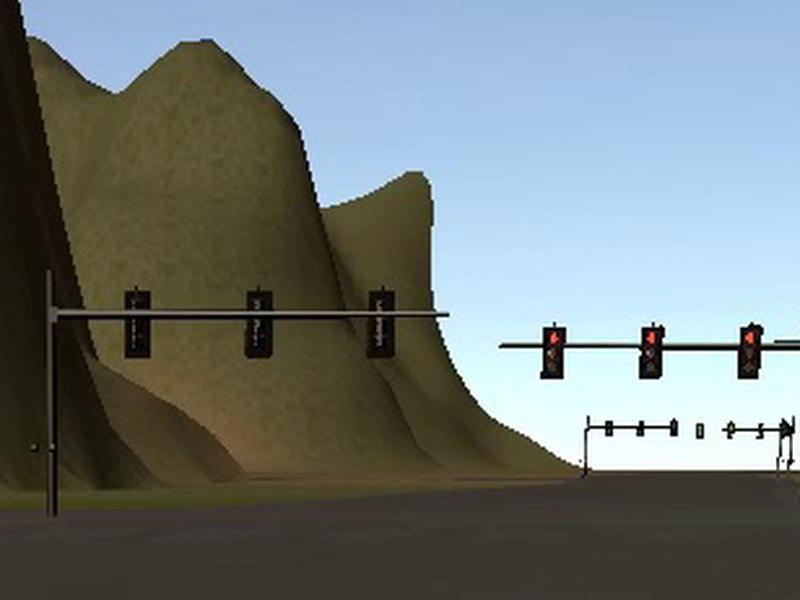Red: (539, 328, 565, 378), (739, 326, 762, 380), (639, 325, 662, 378)
